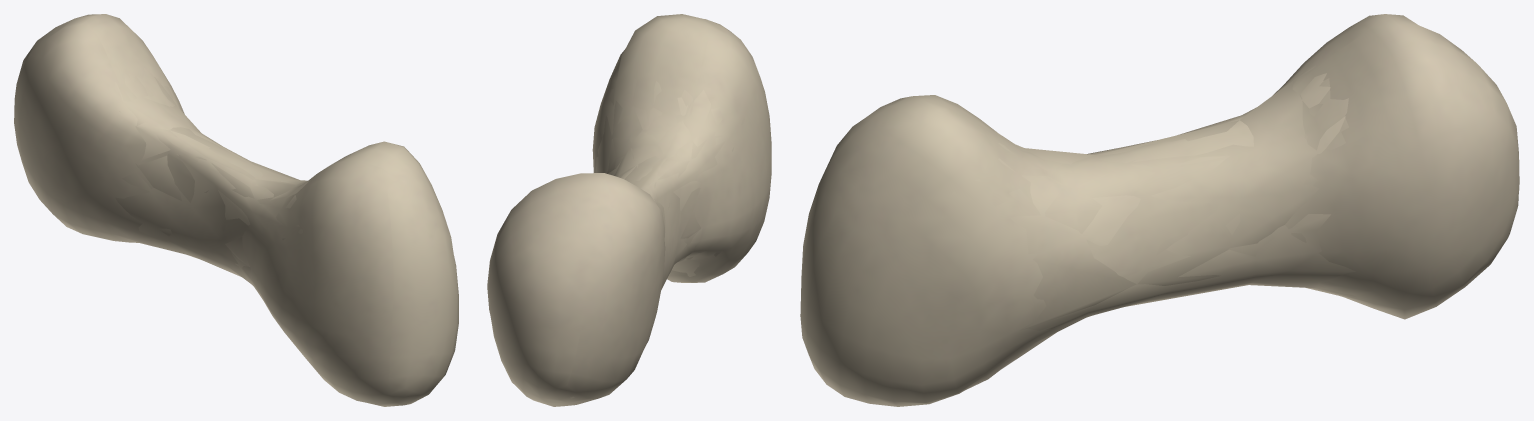
Rendered from L carpi accessorium.fbx.
The picture shows the model from 3 angles, left to right: view 1: azimuth 30°, elevation 25°; view 2: azimuth 150°, elevation 25°; view 3: azimuth 270°, elevation 25°; orthographic projection. The views are drawn at different scales.
Visible parts, largest first — view 1: L carpi accessorium high, L carpi accessorium, L carpi accessorium low; view 2: L carpi accessorium high, L carpi accessorium, L carpi accessorium low; view 3: L carpi accessorium high, L carpi accessorium low, L carpi accessorium.
Part boxes in pixels (<box>): L carpi accessorium high: <box>14,14,458,406</box>; L carpi accessorium: <box>112,68,308,284</box>; L carpi accessorium low: <box>115,74,302,266</box>; L carpi accessorium high: <box>487,14,771,406</box>; L carpi accessorium: <box>570,78,744,398</box>; L carpi accessorium low: <box>596,71,707,261</box>; L carpi accessorium high: <box>800,14,1519,406</box>; L carpi accessorium low: <box>946,66,1345,330</box>; L carpi accessorium: <box>988,65,1356,371</box>.
Size of the model in its own units: 1.3 by 1.46 by 2.99.
